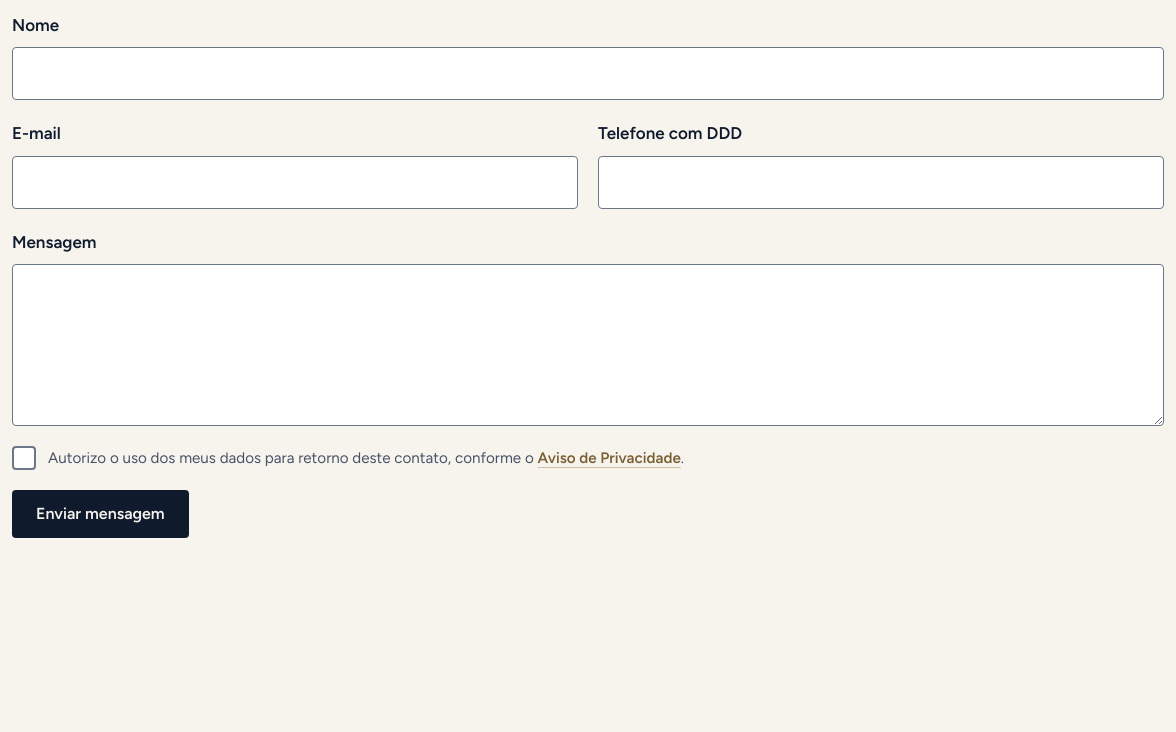
Test: ContactForm › exige os campos obrigatórios
This screenshot has width=1176, height=732.
Click the button "Enviar mensagem": point(100, 514) [12,490,189,538]
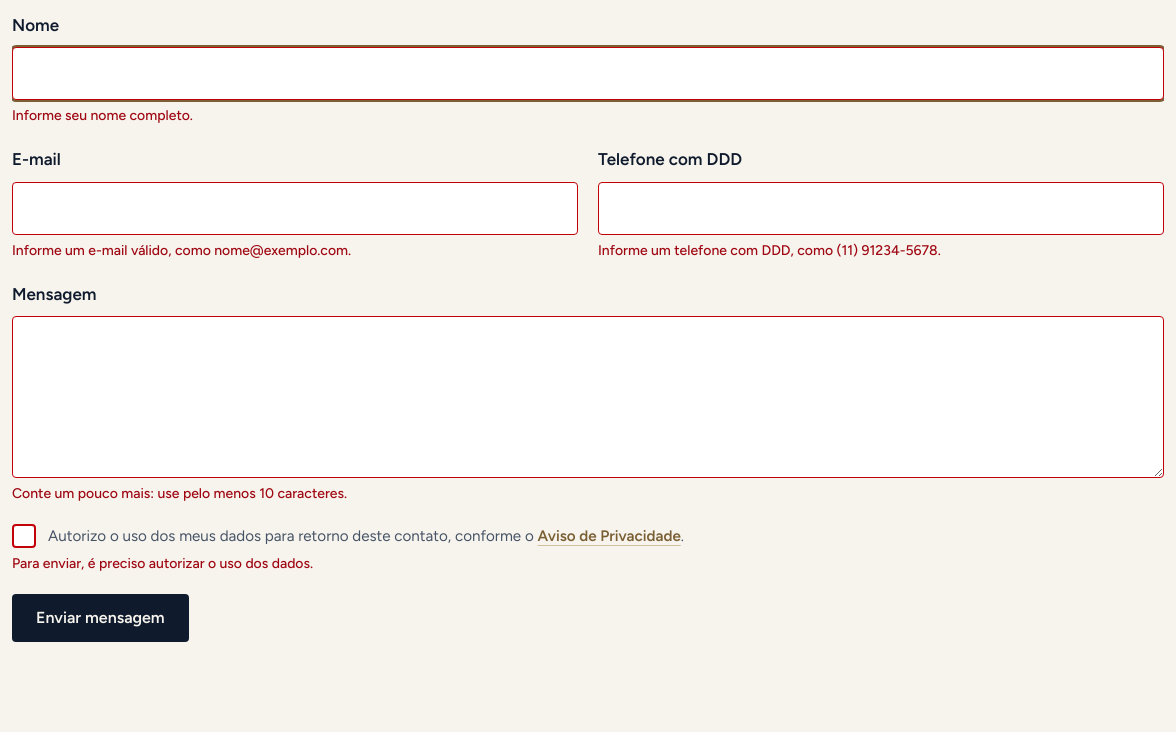
expect the text "Informe um e-mail válido, como nome@exemplo.com." is shown: met, box [12,242,351,259]
expect the text "Informe um telefone com DDD, como (11) 91234-5678." is shown: met, box [598,242,941,259]
expect the text "Conte um pouco mais: use pelo menos 10 caracteres." is shown: met, box [12,485,347,502]
